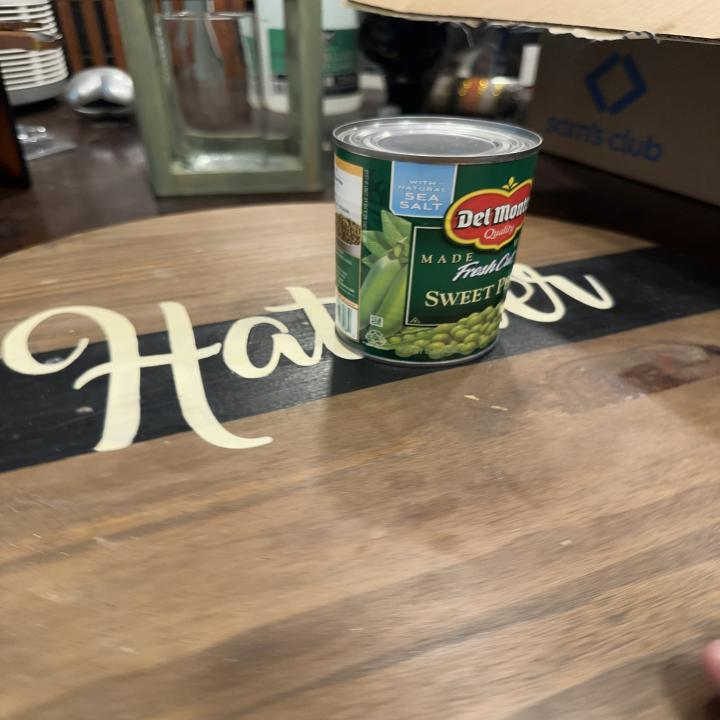Canned-Peas: (326, 113, 545, 367)
